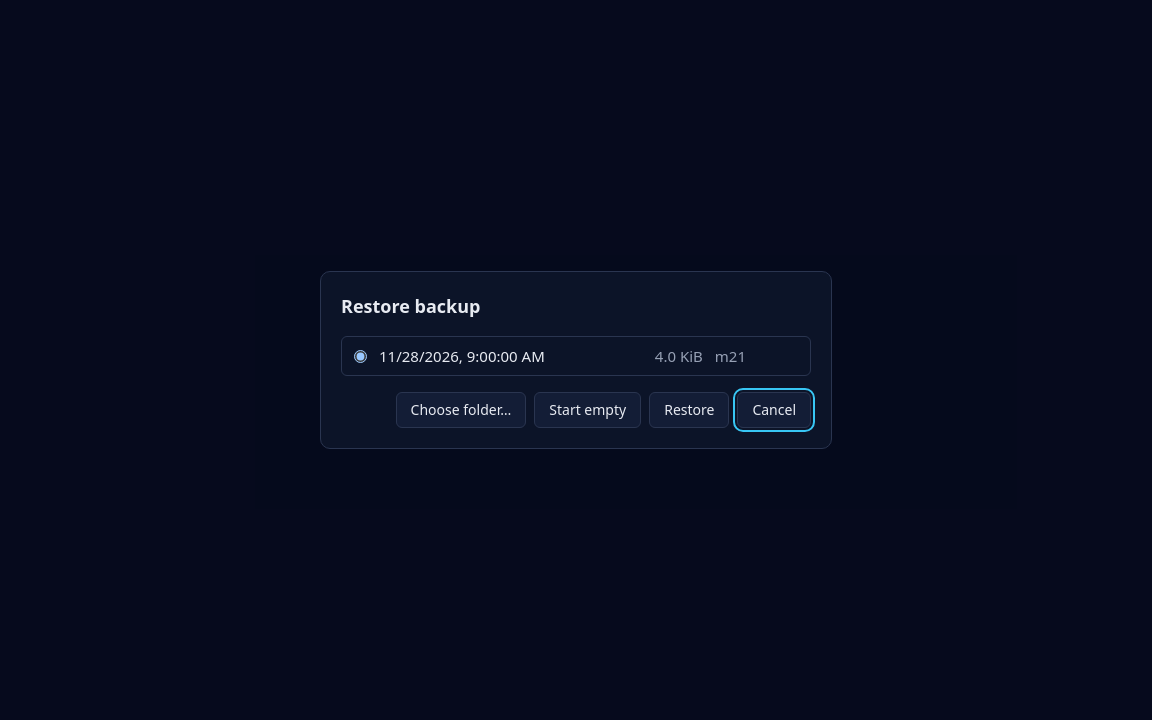
Test: another refusal shows its message and keeps the list
The image size is (1152, 720).
Click the button "Restore" at (689, 410), box [649,392,729,428]
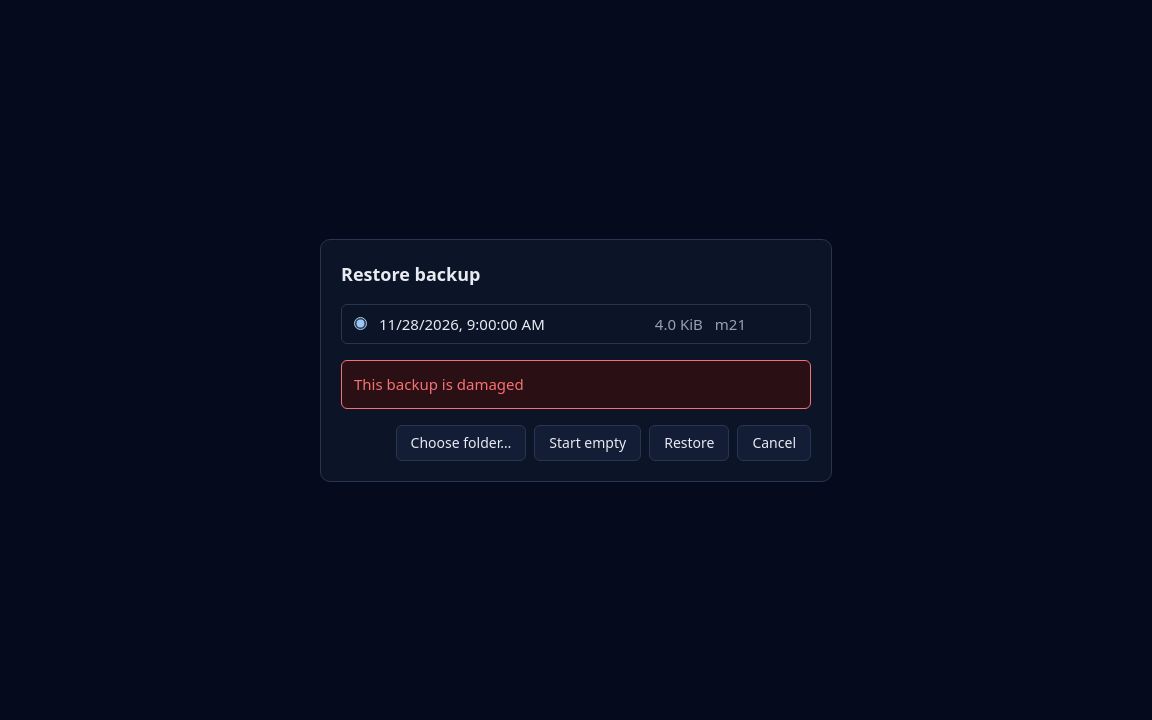
Expected: the number of radio buttons is 1, [354,317,367,330]
Expected: the message reads "This backup is damaged", [354,374,524,394]
